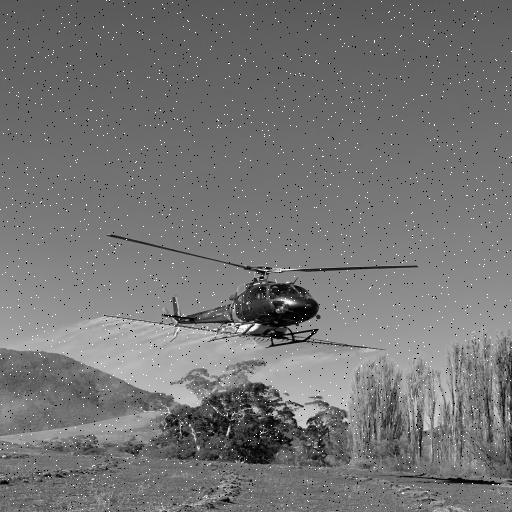helicopter: (116, 214, 441, 361)
